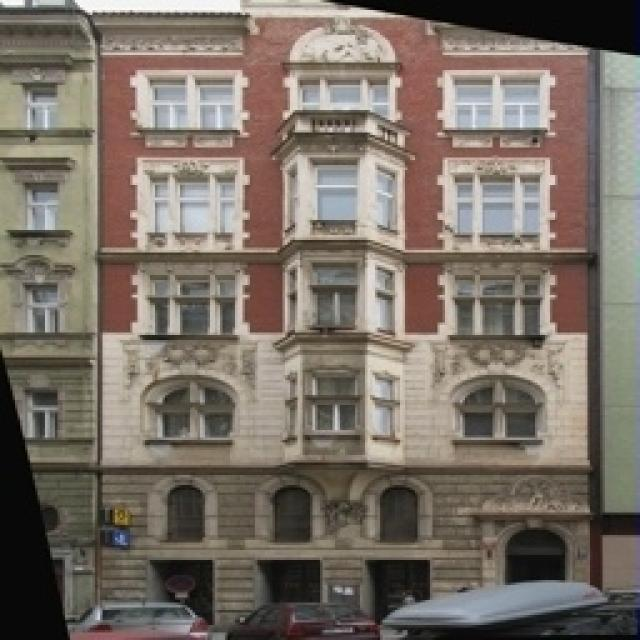building: (98, 0, 602, 640)
